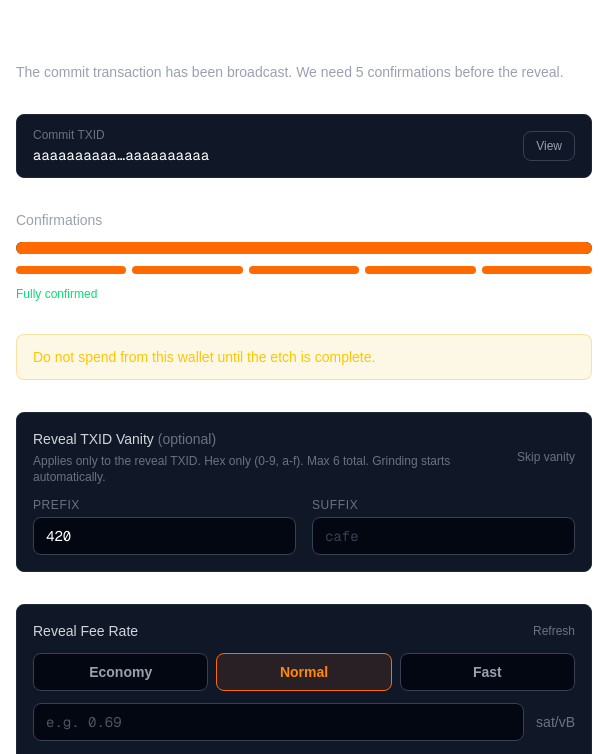
Test case: WaitingPhase reveal vanity recovery › lets the user re-enable vanity after skipping without a hard refresh
The width and height of the screenshot is (609, 754).
Step 1. Click the button "Skip vanity" → [546, 457], box [517,449,575,465]
(page scrolled)
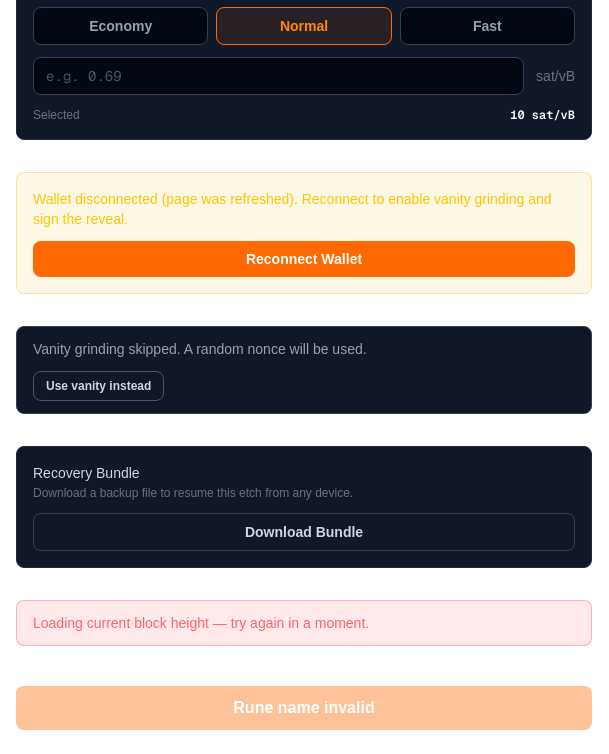
expect the text "Vanity grinding skipped. A random nonce will be used." is shown: met, box [33,341,367,357]
Step 2. Click the button "Use vanity instead" → [99, 386], box [33,371,164,401]
(page scrolled)
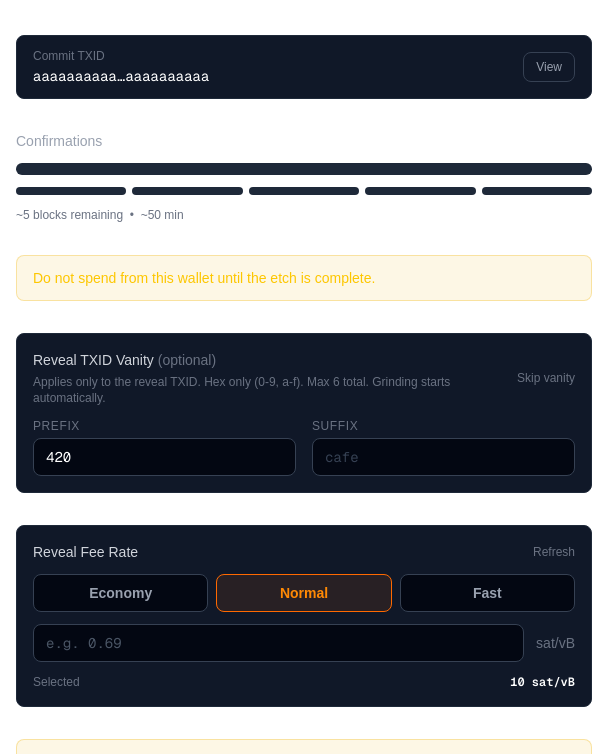
expect the button "Skip vanity" is shown: met, box [517,370,575,386]
